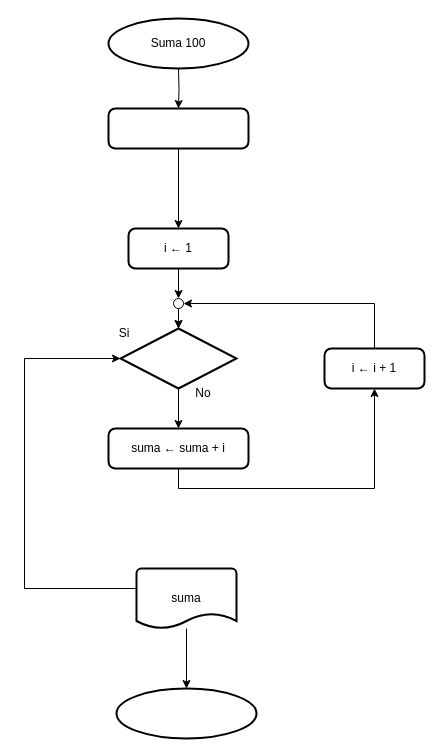
This 443x756 diagram has some shape labels left out. Each missing label, with the box of its shape:
Fin: (115, 687, 257, 739)
i > 100: (119, 327, 237, 389)
suma ← 0: (107, 107, 249, 149)
